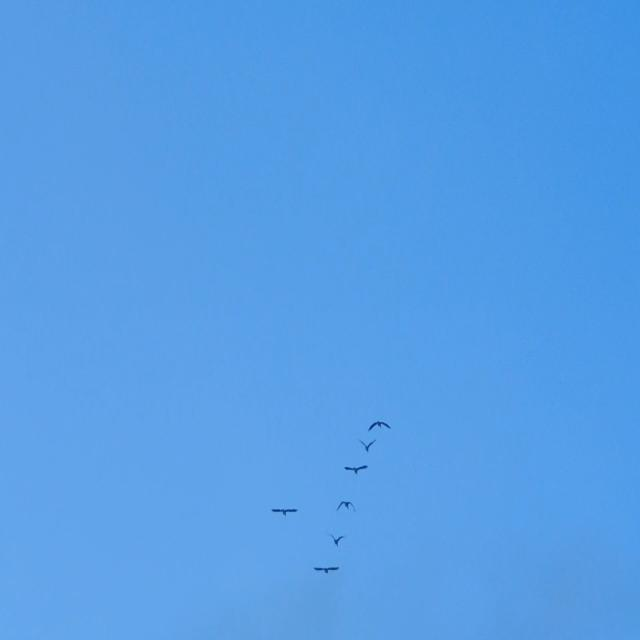bird: (268, 499, 300, 519), (311, 560, 343, 576), (368, 420, 392, 440), (344, 462, 368, 480), (326, 528, 346, 548), (357, 435, 378, 453), (336, 501, 355, 516)
